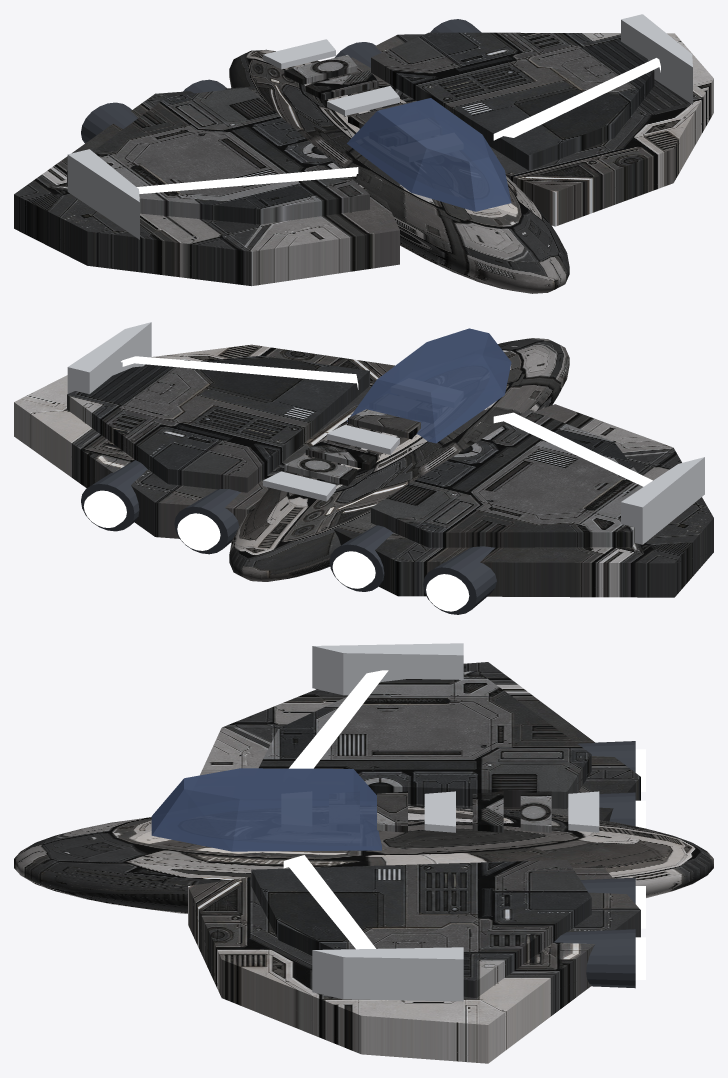
Rendered from aur-meridian-talon.glb.
3 views of the same model, one above another, from view 1: azimuth 30°, elevation 25°; view 2: azimuth 150°, elevation 25°; view 3: azimuth 270°, elevation 25° (orthographic). The views are drawn at different scales.
Parts seen in each view (by area): view 1: hull_primary, armor_secondary, canopy_glass, structure_light, accent_energy, mechanical_gunmetal; view 2: armor_secondary, hull_primary, canopy_glass, structure_light, mechanical_gunmetal, engine_glow, accent_energy; view 3: hull_primary, armor_secondary, canopy_glass, structure_light, mechanical_gunmetal, accent_energy, engine_glow.
Part boxes in pixels (x1=…): hull_primary: x1=14, y1=33, x2=713, y2=293; armor_secondary: x1=67, y1=32, x2=654, y2=224; canopy_glass: x1=347, y1=98, x2=511, y2=211; structure_light: x1=67, y1=14, x2=692, y2=239; accent_energy: x1=137, y1=58, x2=660, y2=193; mechanical_gunmetal: x1=81, y1=19, x2=481, y2=143; armor_secondary: x1=67, y1=355, x2=642, y2=547; hull_primary: x1=14, y1=338, x2=713, y2=597; canopy_glass: x1=347, y1=328, x2=511, y2=443; structure_light: x1=67, y1=322, x2=704, y2=544; mechanical_gunmetal: x1=81, y1=460, x2=496, y2=614; engine_glow: x1=83, y1=490, x2=469, y2=611; accent_energy: x1=121, y1=356, x2=652, y2=486; hull_primary: x1=14, y1=662, x2=713, y2=1063; armor_secondary: x1=251, y1=670, x2=591, y2=997; canopy_glass: x1=151, y1=768, x2=381, y2=851; structure_light: x1=312, y1=643, x2=599, y2=1001; mechanical_gunmetal: x1=554, y1=741, x2=635, y2=988; accent_energy: x1=283, y1=670, x2=388, y2=949; engine_glow: x1=635, y1=749, x2=645, y2=979.
Size of the model in its own units: 6.64 by 1.06 by 5.41.
Materials: 7 (2 with a texture image).
